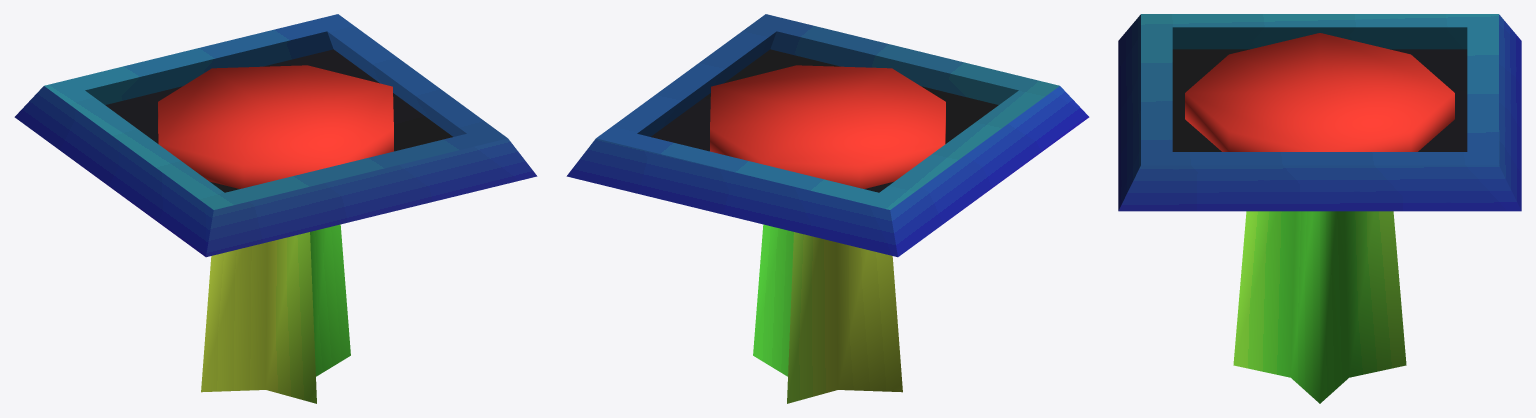
File: Jumper.fbx
The picture shows the model from 3 angles, left to right: view 1: azimuth 30°, elevation 25°; view 2: azimuth 150°, elevation 25°; view 3: azimuth 270°, elevation 25°; orthographic projection. The views are drawn at different scales.
Visible parts, largest first — view 1: JumperStaticMesh, JumperMovingMesh; view 2: JumperStaticMesh, JumperMovingMesh; view 3: JumperStaticMesh, JumperMovingMesh.
Part boxes in pixels (x1,y1,x2,y2): JumperStaticMesh: (14,14,537,257); JumperMovingMesh: (158,65,393,403); JumperStaticMesh: (566,14,1089,257); JumperMovingMesh: (710,65,945,403); JumperStaticMesh: (1118,14,1521,211); JumperMovingMesh: (1185,33,1454,403).
Size of the model in its own units: 224 by 169 by 224.
